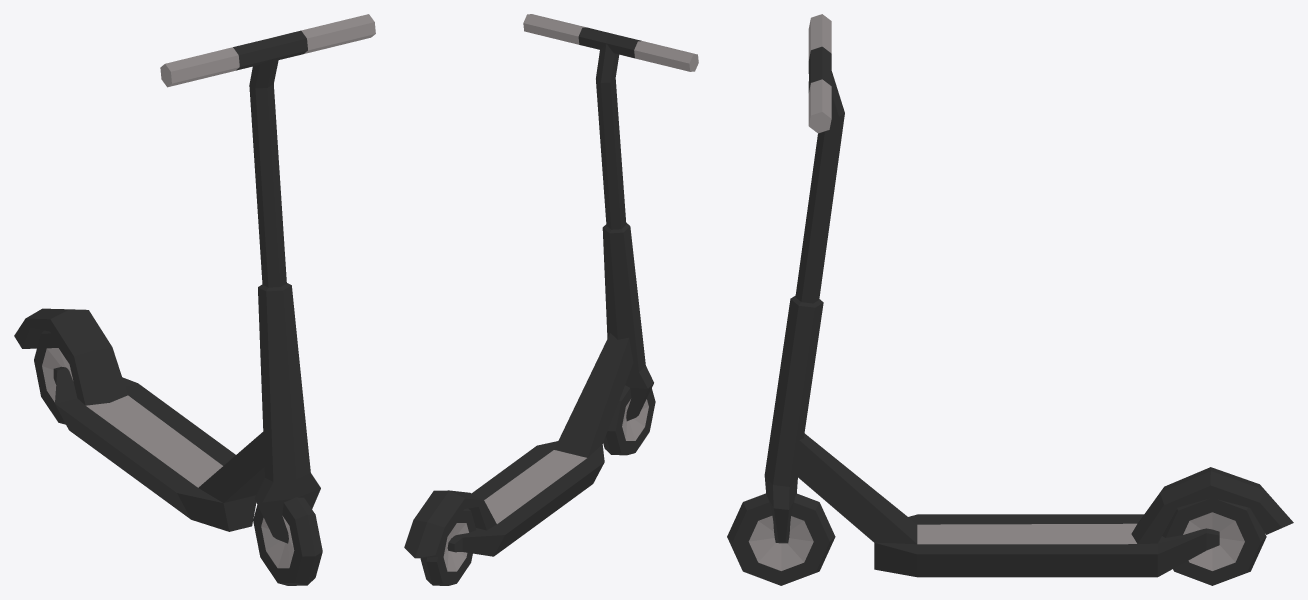
The model's file is scooter-kick.glb.
3 renders of one model, left to right at view 1: azimuth 30°, elevation 25°; view 2: azimuth 150°, elevation 25°; view 3: azimuth 270°, elevation 25°, orthographic. The views are drawn at different scales.
Visible parts, largest first — view 1: scooter-kick; view 2: scooter-kick; view 3: scooter-kick.
Boxes of the visible parts, x1=… form: scooter-kick: x1=14, y1=14, x2=375, y2=585; scooter-kick: x1=404, y1=14, x2=698, y2=585; scooter-kick: x1=727, y1=14, x2=1293, y2=585.
Bounding box in the file's own units: 0.4695 × 1.17 × 1.15.
1 material, 1 textured.
